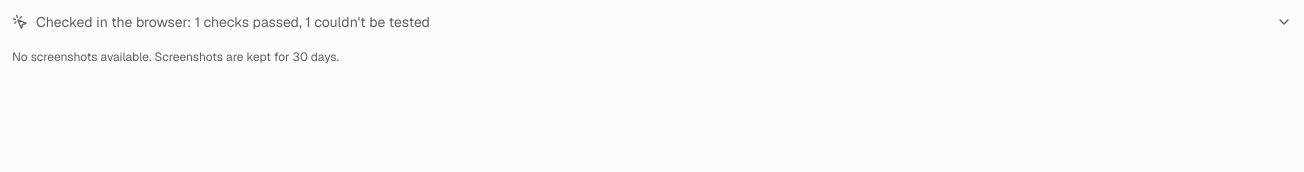
Scenario: browser session › shows a step the browser couldn't test as muted, not failed
Expected: the text "Checked in the browser: 1 checks passed, 1 couldn't be tested" is shown, [36,13,430,31]
Click the button "Checked in the browser: 1 checks passed, 1 couldn't be tested" at (233, 22), box [12,12,1292,32]
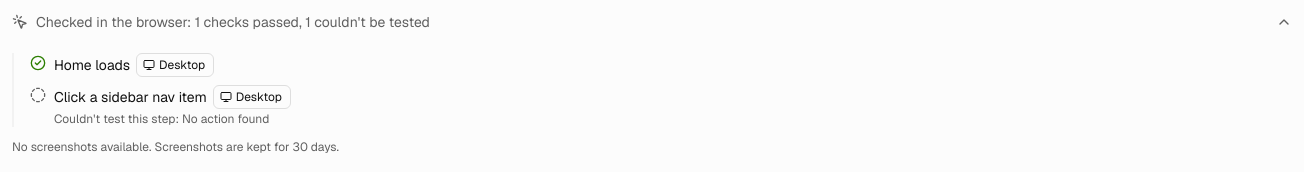
Expected: the icon named "Couldn't test" is shown, [30,87,46,103]
